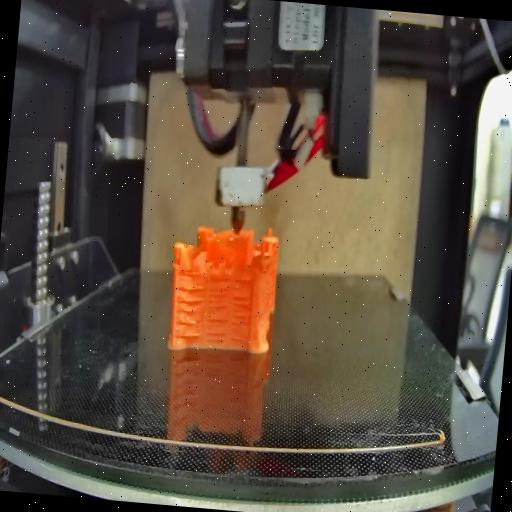cracks: (171, 281, 207, 340), (203, 278, 231, 344), (228, 296, 251, 344), (232, 274, 256, 288)
